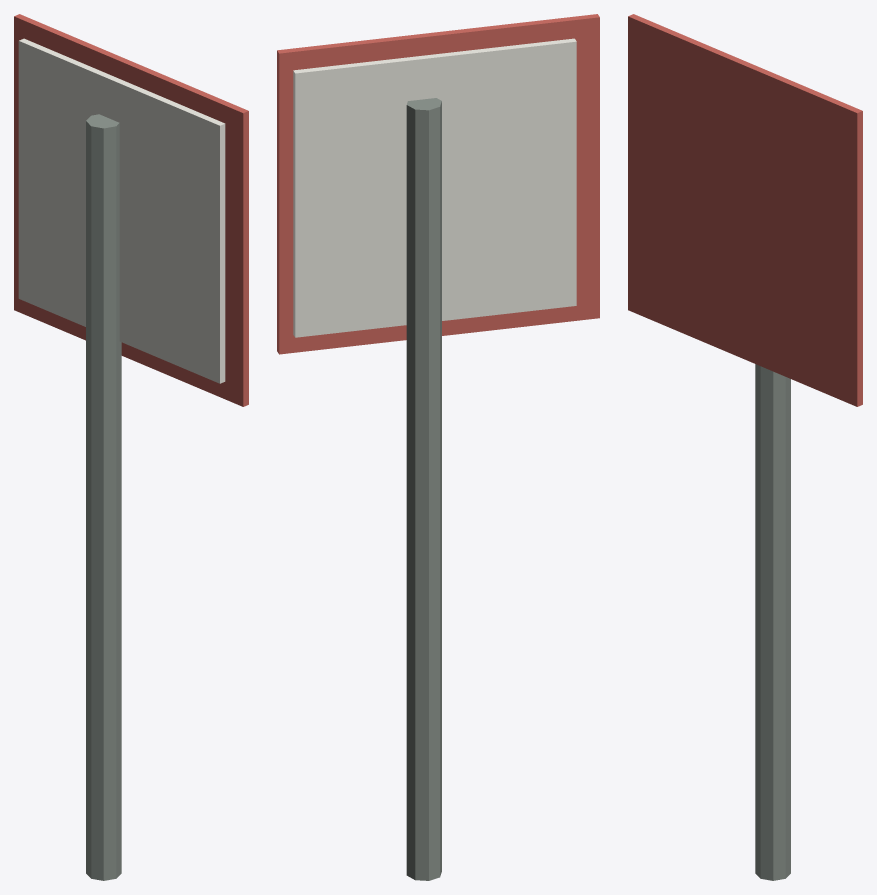
Rendered from give-way-sign-lod0.glb.
The picture shows the model from 3 angles, left to right: view 1: azimuth 90°, elevation 25°; view 2: azimuth 150°, elevation 25°; view 3: azimuth 270°, elevation 25°; orthographic projection. The views are drawn at different scales.
Parts seen in each view (by area): view 1: sign_face, post, sign_border; view 2: sign_face, post, sign_border; view 3: sign_border, post.
Part boxes in pixels (x1,y1,x2,y2): sign_face: (18,38,225,383); post: (86,114,121,880); sign_border: (14,14,248,406); sign_face: (293,38,576,337); post: (406,98,441,880); sign_border: (277,14,599,354); sign_border: (628,14,862,406); post: (755,364,790,880).
Bounding box in the file's own units: 0.594 × 2.26 × 0.594.
